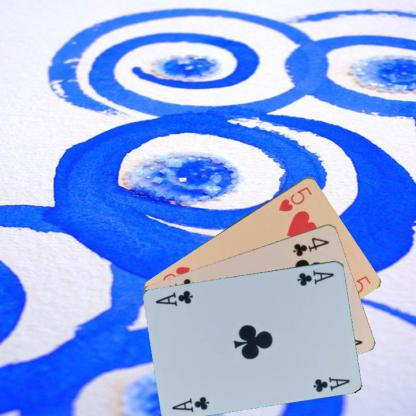4c: (290, 234, 331, 258)
5h: (276, 183, 314, 213)
Ac: (169, 394, 211, 413), (295, 268, 335, 287)
